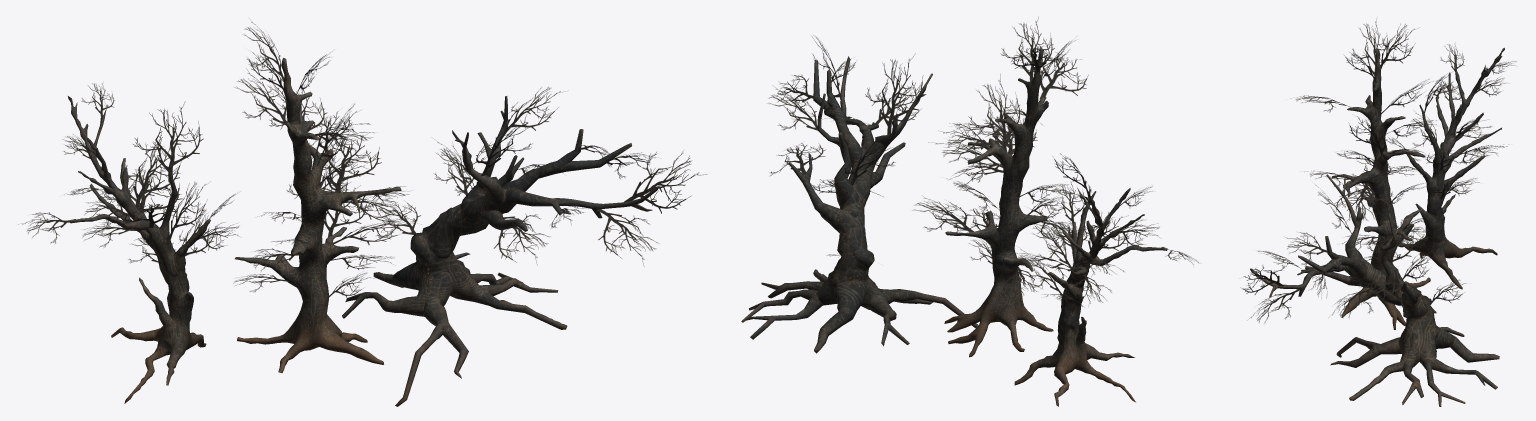
File: trees.glb
3 renders of one model, left to right at view 1: azimuth 30°, elevation 25°; view 2: azimuth 150°, elevation 25°; view 3: azimuth 270°, elevation 25°, orthographic. The views are drawn at different scales.
Visible parts, largest first — view 1: tree2, tree1, tree3, branches, branches_3, branches_2; view 2: tree2, tree1, branches, tree3, branches_2, branches_3; view 3: tree2, tree3, tree1, branches, branches_2, branches_3.
Boxes of the visible parts, <box> form: tree2: <box>342,96,659,406</box>; tree1: <box>235,58,401,372</box>; tree3: <box>68,96,210,403</box>; branches: <box>233,22,415,298</box>; branches_3: <box>18,83,238,263</box>; branches_2: <box>373,86,707,266</box>; tree2: <box>741,56,978,353</box>; tree1: <box>944,48,1053,357</box>; branches: <box>912,16,1088,298</box>; tree3: <box>1014,187,1167,406</box>; branches_2: <box>767,36,925,260</box>; branches_3: <box>1012,153,1200,306</box>; tree2: <box>1250,174,1499,406</box>; tree3: <box>1398,47,1504,289</box>; tree1: <box>1332,48,1436,329</box>; branches: <box>1296,19,1436,261</box>; branches_2: <box>1240,185,1466,322</box>; branches_3: <box>1388,44,1516,199</box>.
Size of the model in its own units: 1562 by 1016 by 898.
4 materials, 4 textured.
